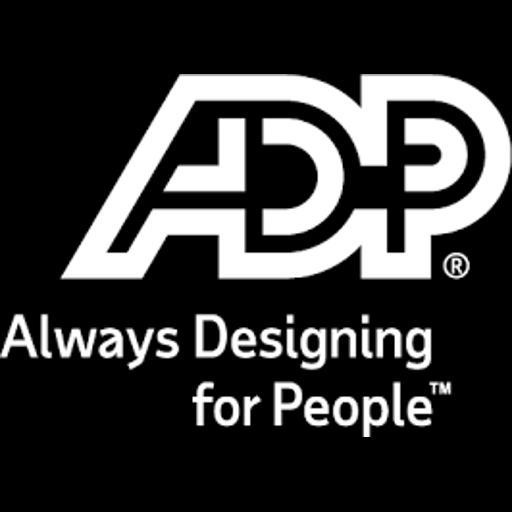ADP: (0, 74, 512, 437)
